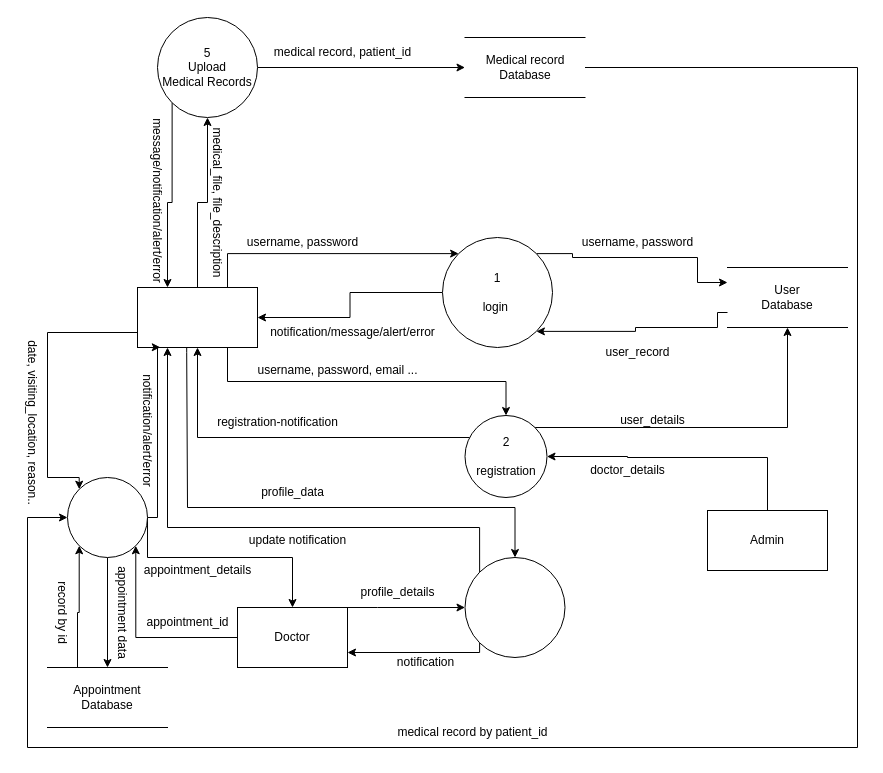
Some shapes in this 883 by 773 pixel diagram are drawn without their labels. The centre of each missing label's shape, as x and y in pixels:
"3. Appointment Handler" goes at [107,517].
"4 update profile" goes at [514,607].
"Patient" goes at [197,317].
